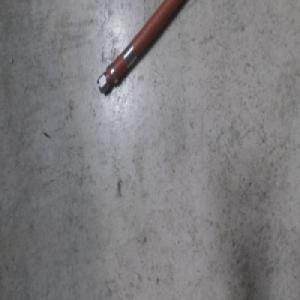Hose: (96, 0, 189, 97)
